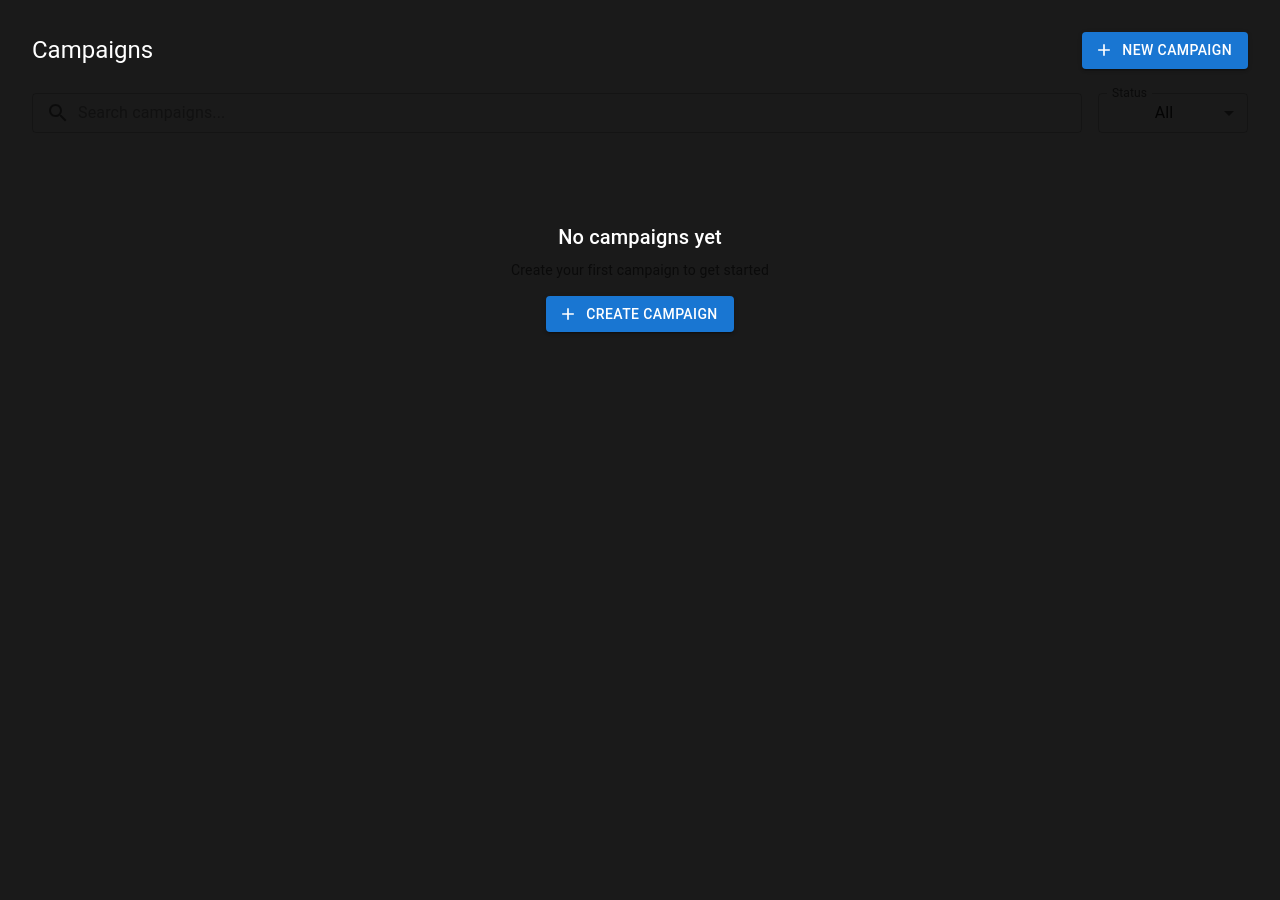
Scenario: CampaignListView › create flow › should show error snackbar on create failure
Click the button with aria-label "create new campaign": (1165, 50) [1082, 32, 1248, 68]
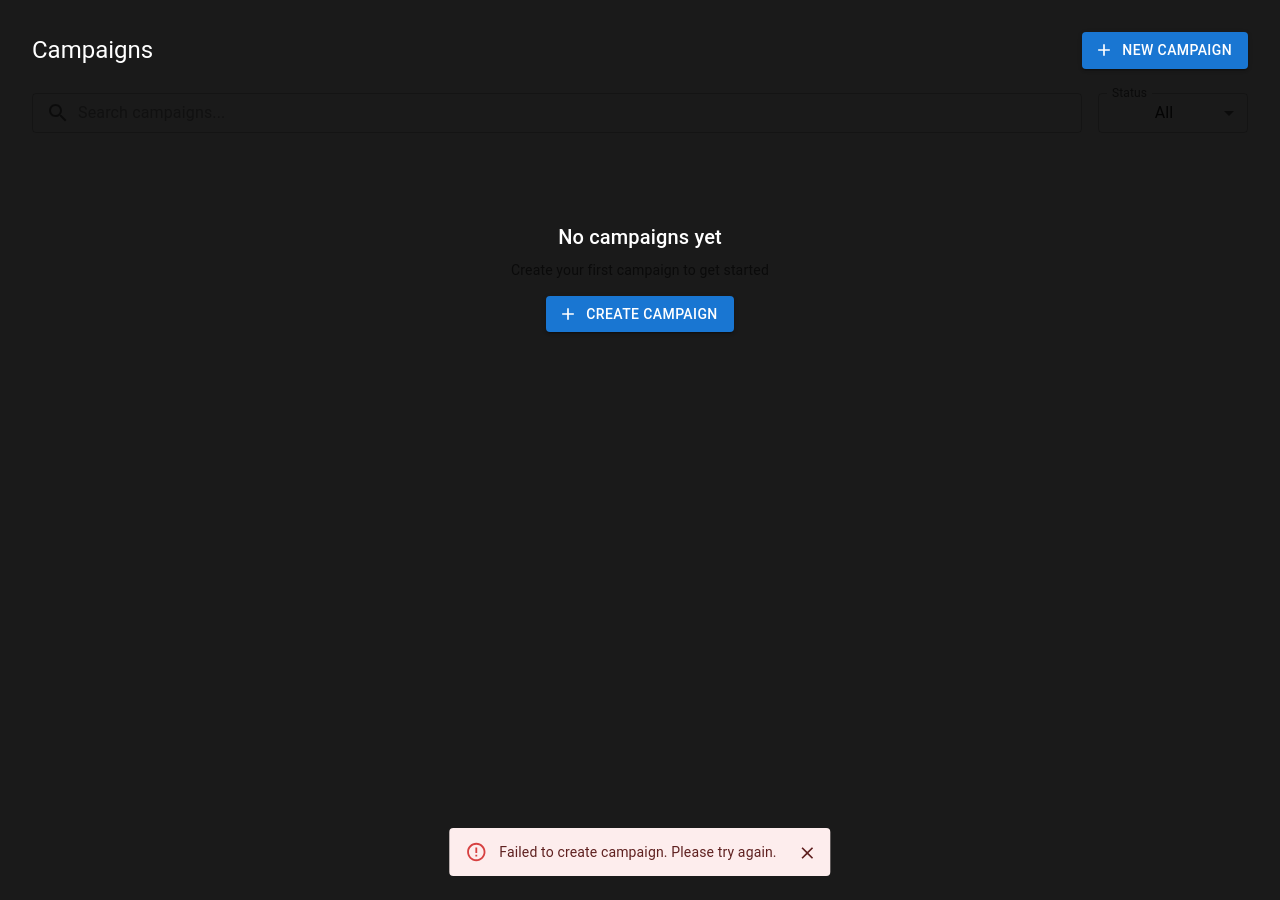
Expected: the text "Failed to create campaign. Please try again." is shown, [499, 844, 777, 860]
